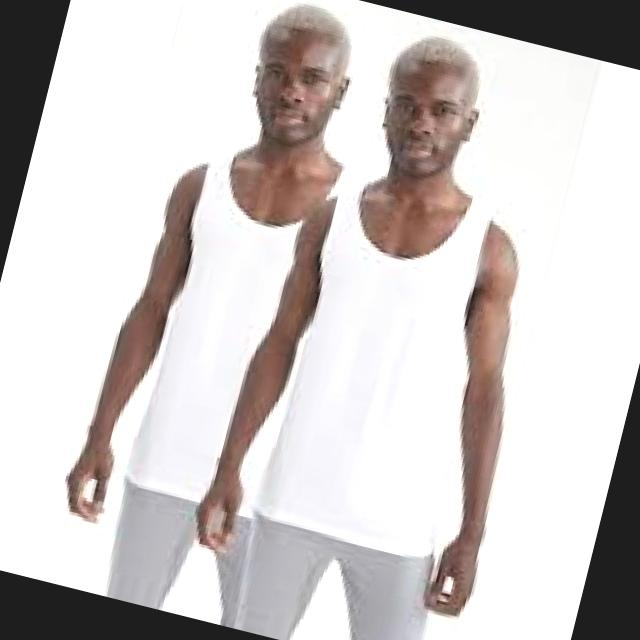no_vest: (248, 162, 522, 564), (120, 130, 387, 527)
